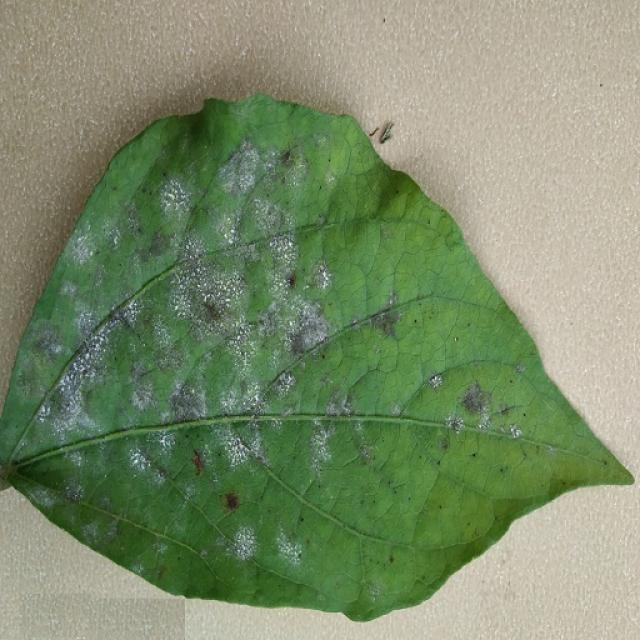Blackgram: (0, 95, 632, 620)
Powdery_Mildew: (172, 239, 264, 345), (41, 334, 107, 431), (386, 223, 462, 307), (448, 382, 522, 438), (214, 142, 274, 201), (285, 311, 331, 355), (169, 456, 208, 504), (156, 178, 192, 223), (219, 427, 257, 469), (322, 133, 354, 180), (150, 336, 186, 376), (265, 232, 299, 271), (169, 383, 203, 422), (306, 423, 334, 468), (128, 371, 158, 412), (216, 382, 249, 417), (32, 325, 67, 358), (69, 229, 98, 266), (26, 482, 63, 509), (128, 442, 157, 475), (230, 526, 258, 559), (372, 307, 401, 337), (80, 518, 111, 546), (277, 531, 304, 562), (324, 386, 351, 416), (104, 304, 134, 331), (144, 230, 171, 258), (312, 262, 332, 291), (57, 279, 81, 303), (444, 415, 467, 434), (66, 483, 85, 502), (250, 402, 270, 420), (359, 444, 375, 462), (154, 541, 170, 557), (390, 400, 405, 417), (385, 291, 398, 308), (428, 374, 443, 388), (369, 583, 382, 599), (314, 214, 326, 228), (281, 149, 292, 164), (439, 436, 450, 450), (281, 407, 294, 418), (515, 364, 526, 374), (351, 317, 360, 326), (141, 341, 147, 348)
